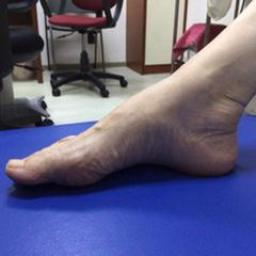Medial View -Right Foot-: (3, 51, 255, 196)
